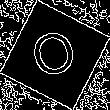O_S: (27, 24, 83, 86)
